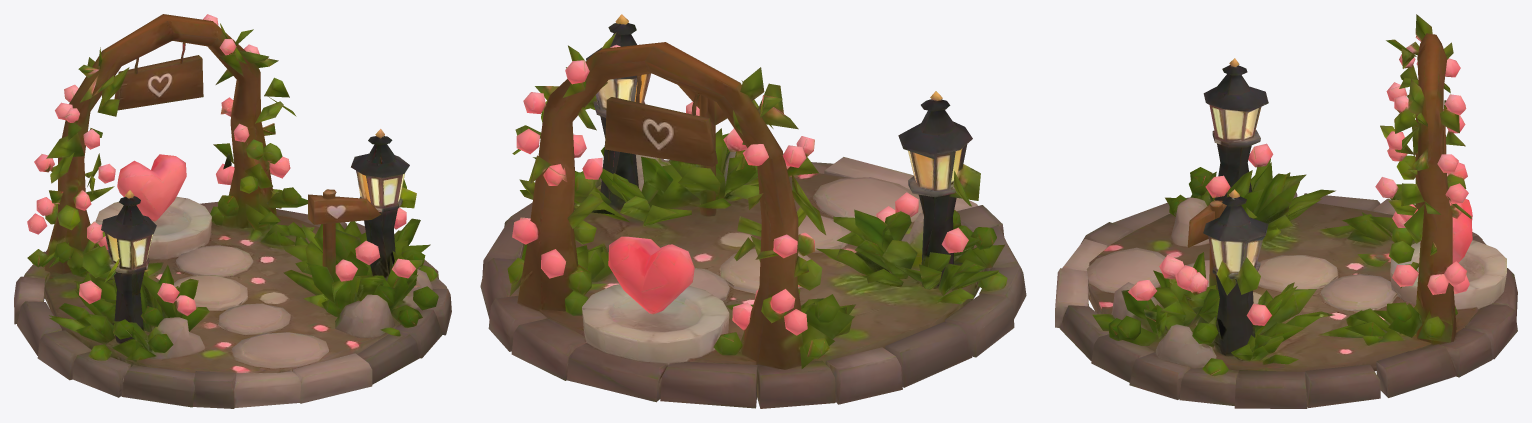
Rendered from newstep.glb.
The picture shows the model from 3 angles, left to right: view 1: azimuth 30°, elevation 25°; view 2: azimuth 150°, elevation 25°; view 3: azimuth 270°, elevation 25°; orthographic projection. The views are drawn at different scales.
Parts seen in each view (by area): view 1: mesh_node; view 2: mesh_node; view 3: mesh_node.
Boxes of the visible parts, box(x1,y1,x2,y2) form: mesh_node: box(14, 14, 451, 408); mesh_node: box(480, 14, 1026, 408); mesh_node: box(1055, 14, 1517, 408).
Bounding box in the file's own units: 1 × 0.6367 × 0.998.
Materials: 1 (1 with a texture image).
